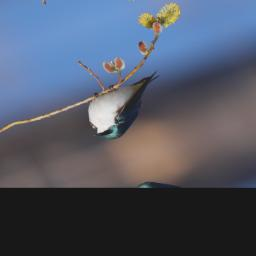Swallow: (71, 70, 185, 146)
